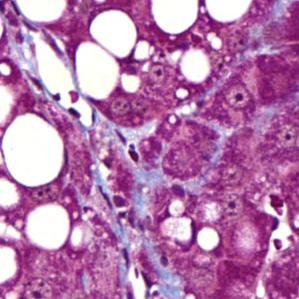steatosis: (2, 115, 68, 188), (74, 42, 121, 101), (87, 11, 138, 57), (24, 205, 74, 233), (182, 47, 212, 88), (198, 225, 219, 251)
